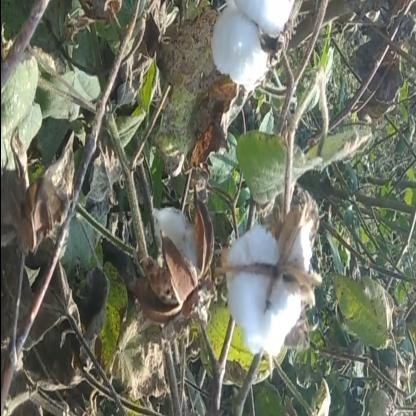cotton_ready: (214, 213, 316, 342)
